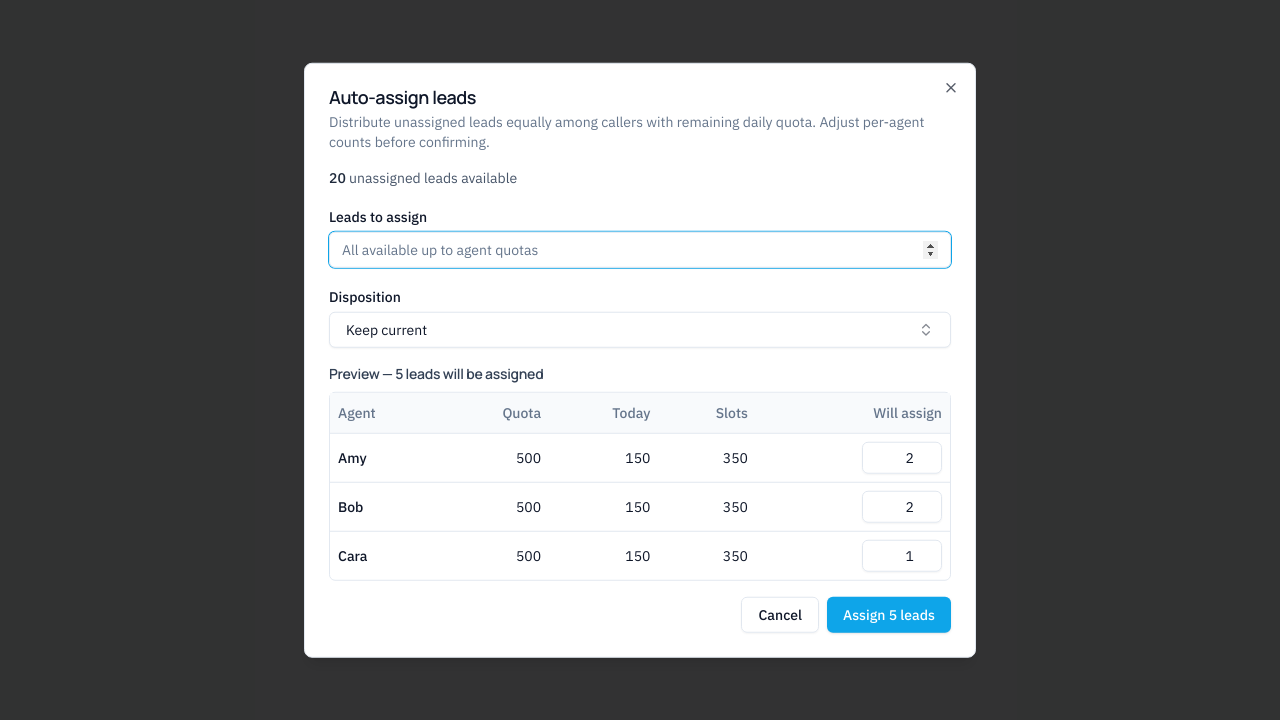
it: AutoAssignDialog › clamps per-agent input to slots_available
The image size is (1280, 720).
Replace the text in the number field with test id "auto-assign-agent-count-a1" with "999" at coordinates (902, 457), box [862, 441, 942, 473]
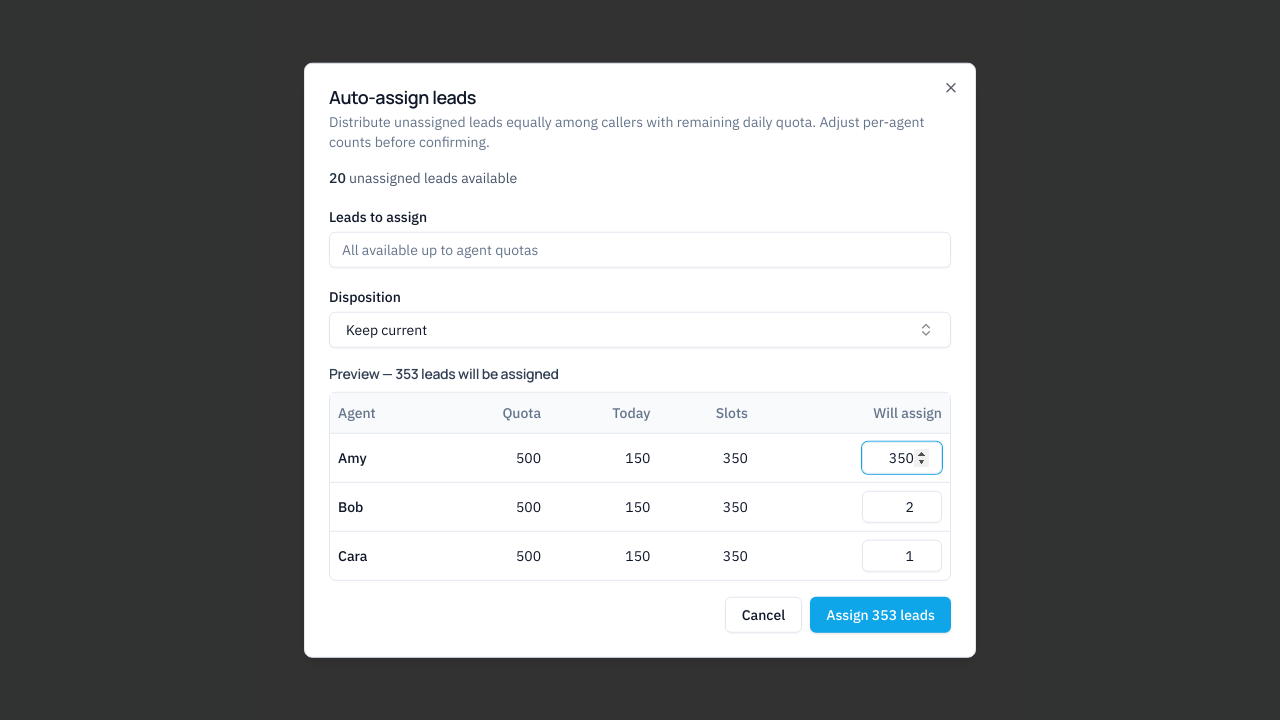
Check: the number field with test id "auto-assign-agent-count-a1" holds "350", box [862, 441, 942, 473]
Check: the button with test id "confirm-auto-assign-btn" reads "Assign 353 leads", box [810, 596, 951, 632]
